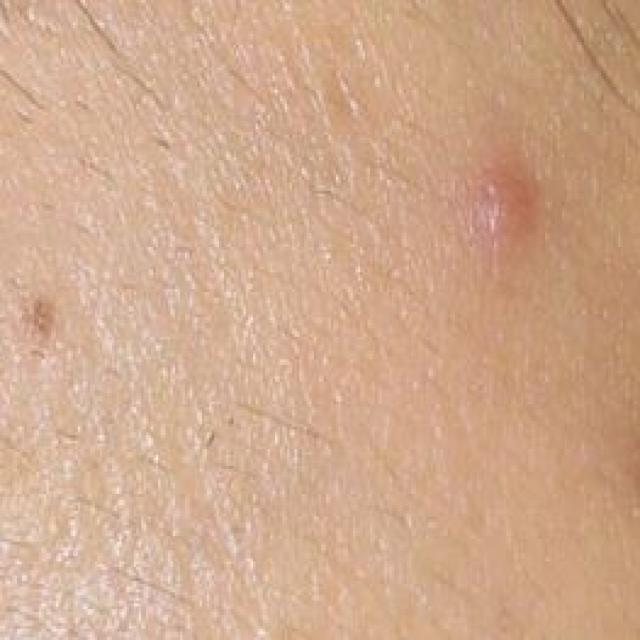Pimples: (441, 154, 546, 278)
